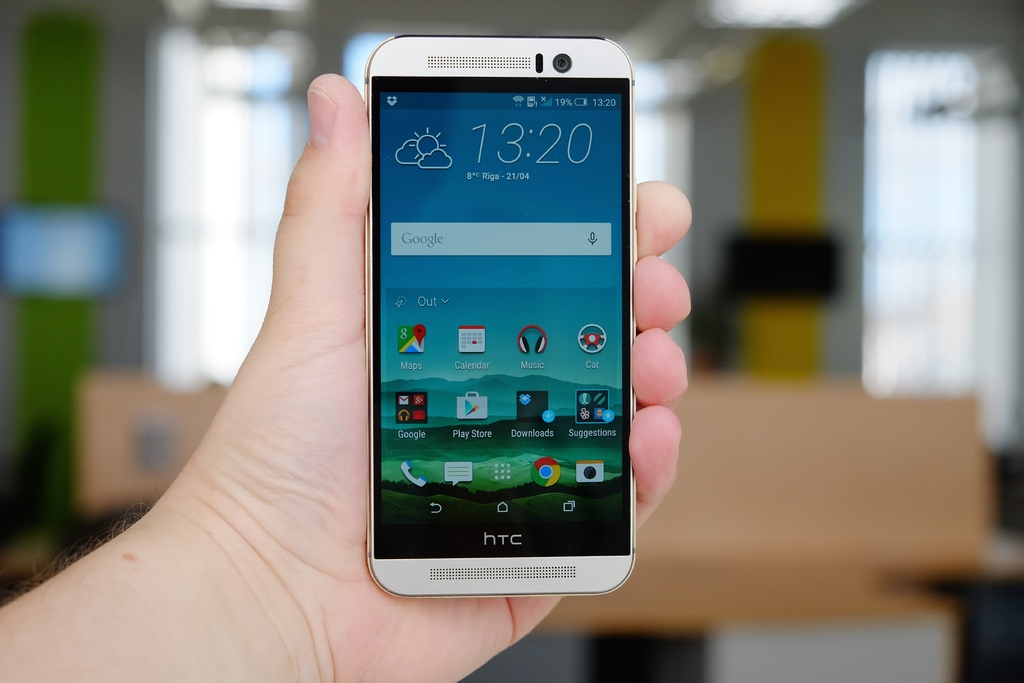Mobile-phone: (366, 33, 637, 599)
